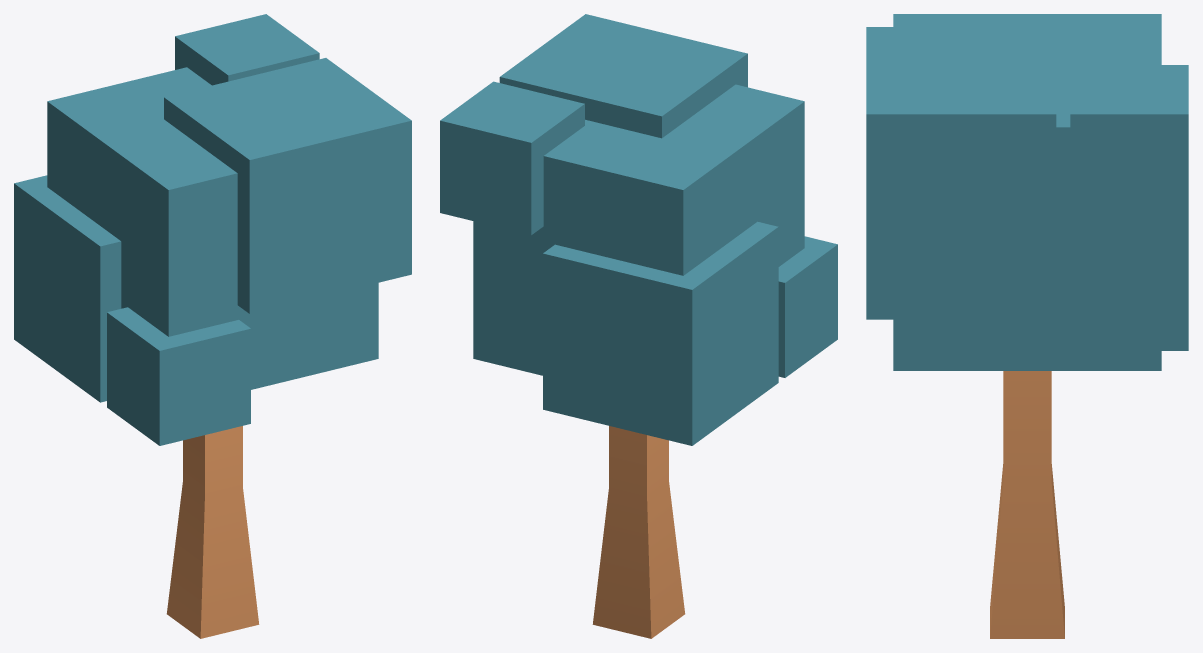
File: tree_blocks_dark.obj
3 renders of one model, left to right at view 1: azimuth 30°, elevation 25°; view 2: azimuth 150°, elevation 25°; view 3: azimuth 270°, elevation 25°, orthographic. The views are drawn at different scales.
Visible parts, largest first — view 1: tree_blocks_dark; view 2: tree_blocks_dark; view 3: tree_blocks_dark.
Boxes of the visible parts, <box> form: tree_blocks_dark: <box>14,14,411,638</box>; tree_blocks_dark: <box>440,14,837,638</box>; tree_blocks_dark: <box>866,14,1188,638</box>.
Size of the model in its own units: 6 by 11.85 by 6.
